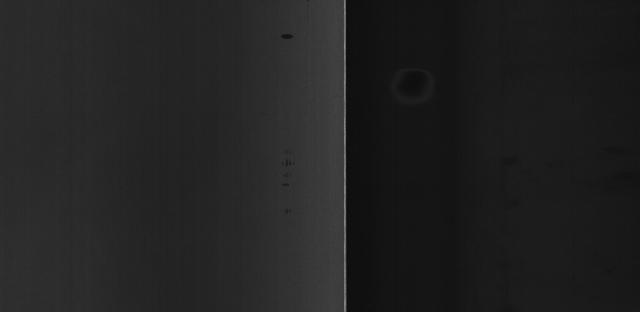oil_spot: (270, 148, 300, 217), (270, 25, 304, 49)
